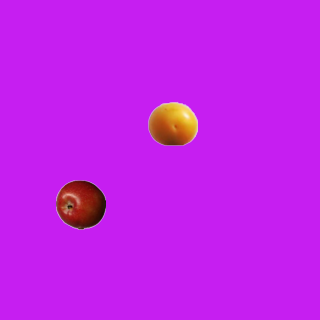Apple Braeburn: (55, 179, 105, 229)
Cherry Wax Yellow: (147, 98, 197, 148)
